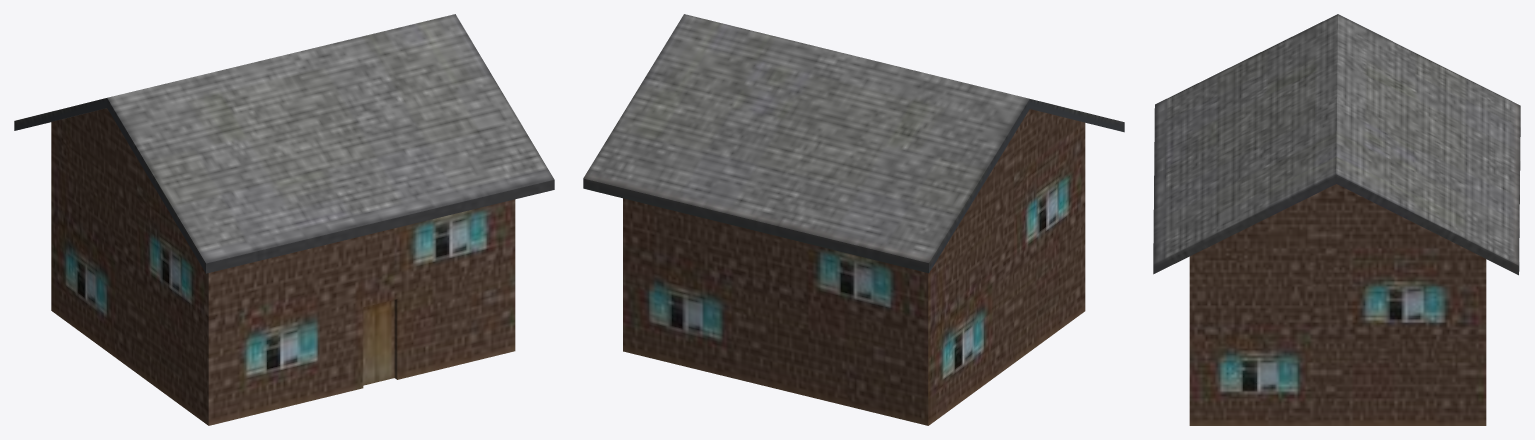
File: Rumah 6.fbx
3 views of the same model, side by side, from view 1: azimuth 30°, elevation 25°; view 2: azimuth 150°, elevation 25°; view 3: azimuth 270°, elevation 25° (orthographic). The views are drawn at different scales.
Visible parts, largest first — view 1: texture 1.002; view 2: texture 1.002; view 3: texture 1.002.
Part boxes in pixels (<box>): texture 1.002: <box>14,14,554,425</box>; texture 1.002: <box>583,14,1124,425</box>; texture 1.002: <box>1153,14,1520,425</box>.
Size of the model in its own units: 1252 by 939 by 1200.
1 material, 1 textured.
